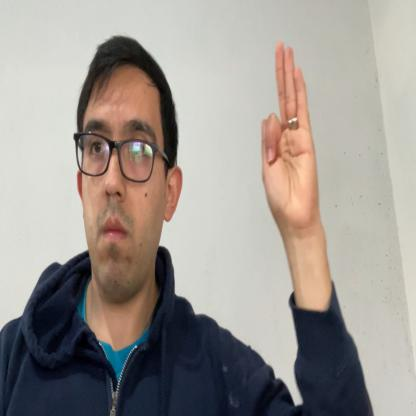F: (261, 42, 319, 228)
